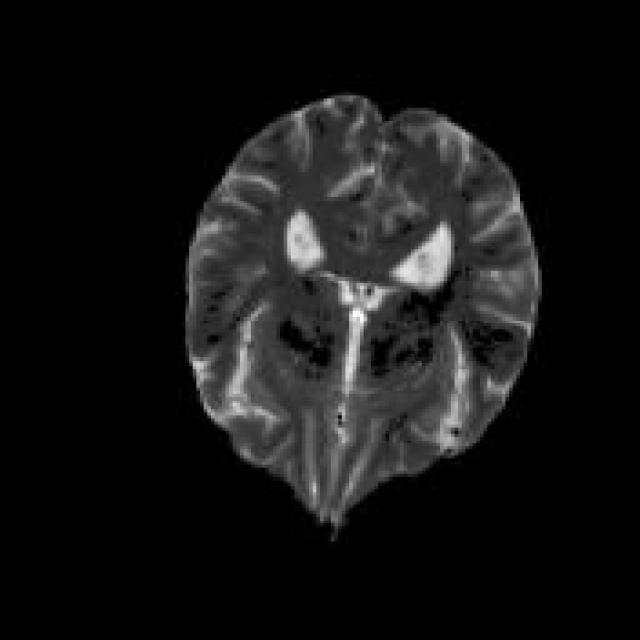parkinson: (182, 90, 542, 538)
